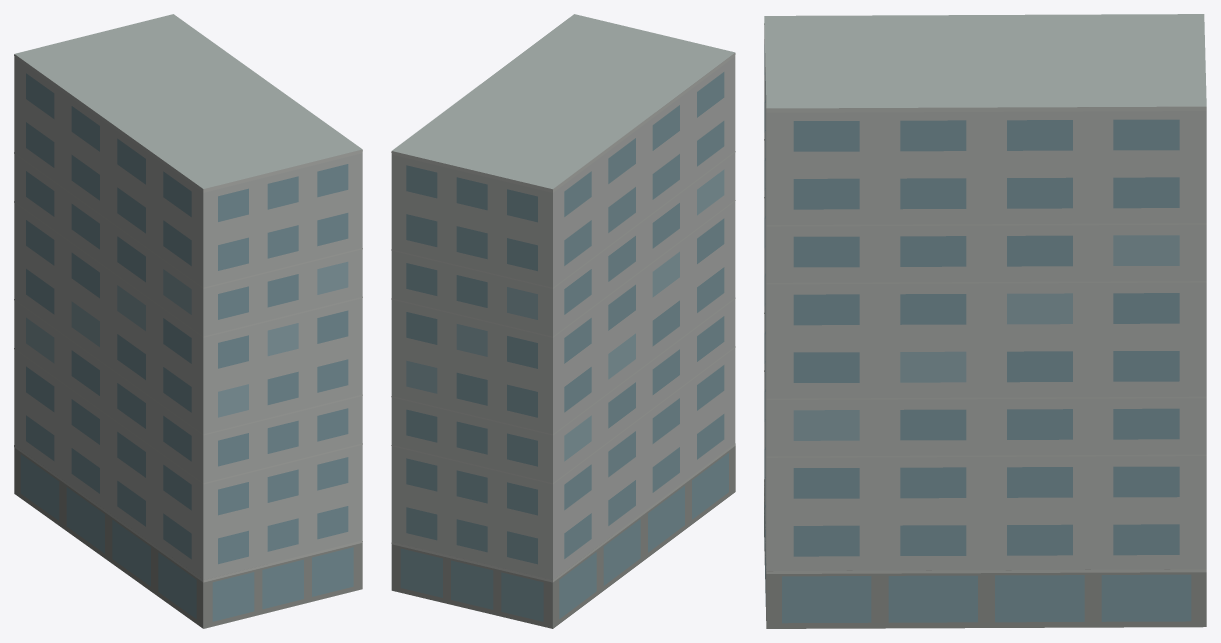
Rendered from residential-aba8bcdf-dee8-4ffb-8744-77287b8b6c54.glb.
The picture shows the model from 3 angles, left to right: view 1: azimuth 30°, elevation 25°; view 2: azimuth 150°, elevation 25°; view 3: azimuth 270°, elevation 25°; orthographic projection. The views are drawn at different scales.
Visible parts, largest first — view 1: residential-aba8bcdf-dee8-4ffb-8744-77287b8b6c54.tmp; view 2: residential-aba8bcdf-dee8-4ffb-8744-77287b8b6c54.tmp; view 3: residential-aba8bcdf-dee8-4ffb-8744-77287b8b6c54.tmp.
Boxes of the visible parts, box(x1,y1,x2,y2) form: residential-aba8bcdf-dee8-4ffb-8744-77287b8b6c54.tmp: box(14, 14, 362, 628); residential-aba8bcdf-dee8-4ffb-8744-77287b8b6c54.tmp: box(391, 14, 735, 628); residential-aba8bcdf-dee8-4ffb-8744-77287b8b6c54.tmp: box(764, 14, 1206, 628).
Bounding box in the file's own units: 11.31 × 29 × 22.37.
